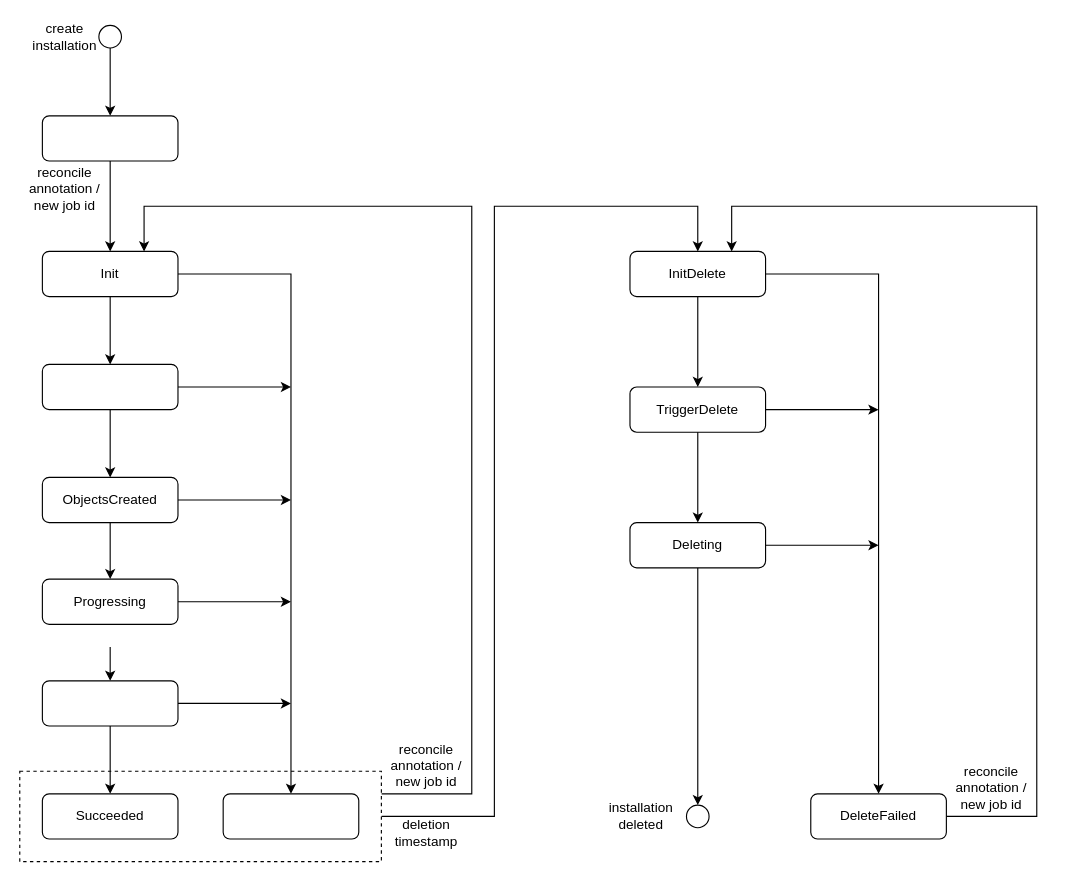
This 1066x881 diagram has some shape labels left out. The box of each missing label's shape, as (x1, y1, x2, y2) in pixels:
CleanupOrphaned: (41, 363, 178, 410)
Completing: (41, 680, 178, 726)
Failed: (222, 793, 359, 839)
no phase: (41, 115, 178, 161)
